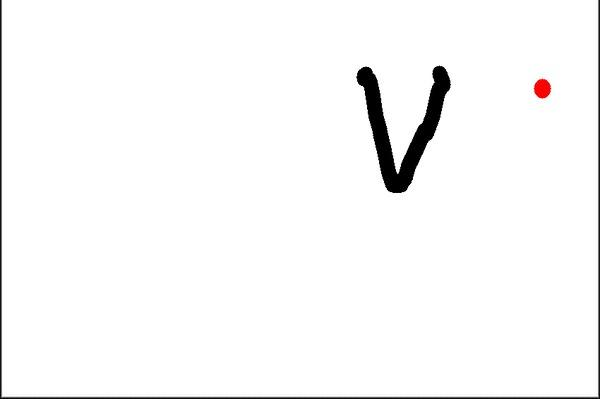V: (349, 57, 459, 202)
